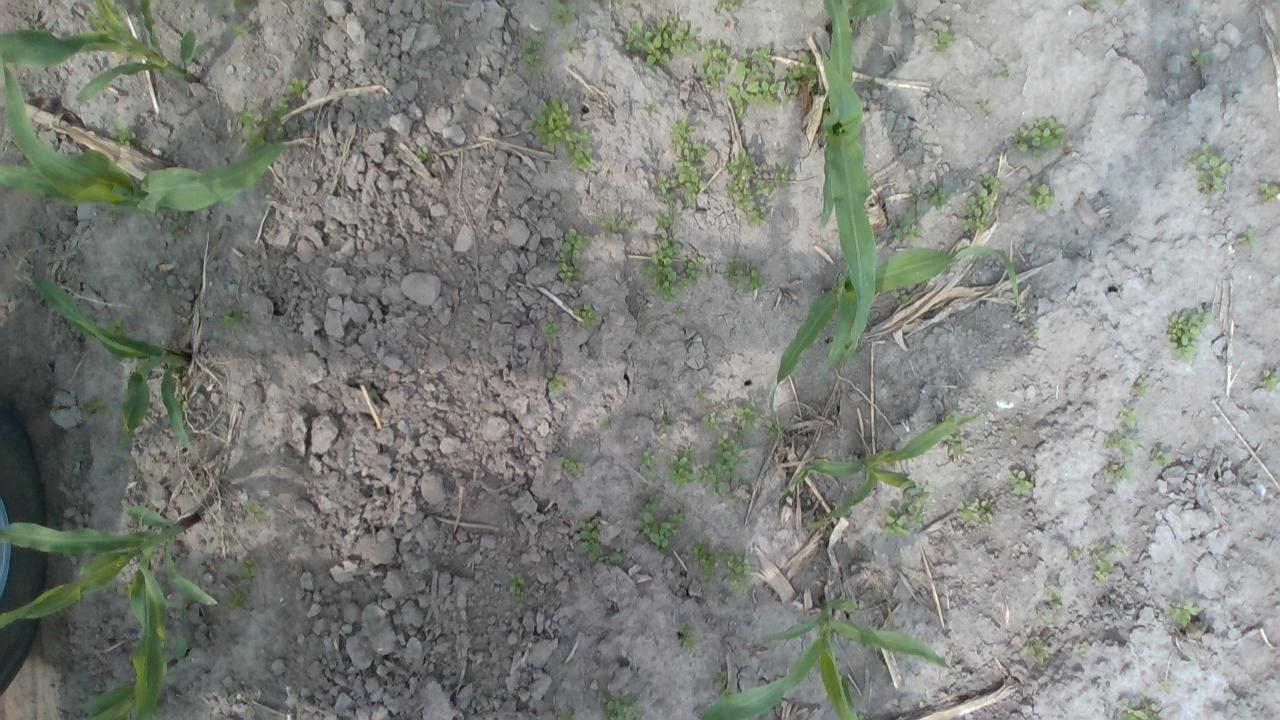Maize: (0, 504, 219, 720), (0, 62, 289, 218), (766, 246, 1020, 417), (696, 598, 954, 720), (29, 274, 199, 458), (780, 412, 981, 531), (816, 0, 879, 365), (0, 0, 203, 104), (78, 638, 192, 720), (822, 0, 892, 35)
Weeds: (639, 231, 705, 304), (624, 10, 700, 68), (724, 46, 780, 118), (698, 430, 751, 502), (668, 116, 711, 203), (723, 146, 769, 226), (233, 96, 296, 152), (629, 493, 687, 552), (882, 481, 929, 542), (524, 94, 572, 152), (1011, 116, 1067, 161), (1166, 308, 1212, 362), (1184, 143, 1232, 193), (961, 173, 1000, 233), (779, 50, 819, 107), (554, 227, 589, 286), (721, 255, 769, 294), (696, 39, 732, 90), (1088, 540, 1126, 584), (721, 546, 754, 594), (690, 538, 721, 584), (664, 446, 696, 488), (598, 691, 644, 720), (889, 207, 926, 243), (956, 494, 998, 524), (574, 518, 602, 563), (732, 398, 761, 436), (1038, 584, 1064, 626), (566, 131, 594, 170), (520, 33, 546, 72), (1104, 432, 1144, 457), (1116, 698, 1160, 720), (78, 390, 110, 420), (1024, 183, 1056, 212), (946, 429, 974, 461), (599, 210, 636, 233), (1170, 598, 1200, 626), (674, 622, 698, 656), (638, 448, 662, 482), (109, 117, 137, 146), (1021, 636, 1049, 664), (654, 173, 676, 208), (925, 182, 952, 209), (574, 302, 600, 330), (85, 0, 107, 32), (550, 0, 578, 24), (1006, 469, 1034, 493), (769, 162, 790, 194), (933, 22, 956, 51), (1102, 462, 1137, 481), (222, 588, 250, 610), (508, 574, 530, 602), (545, 368, 568, 394), (215, 308, 242, 330), (712, 670, 734, 697), (105, 314, 129, 338), (558, 455, 586, 474), (1116, 406, 1138, 430), (242, 500, 266, 522), (166, 215, 188, 238), (1236, 228, 1258, 250), (1257, 180, 1280, 201), (764, 416, 785, 439), (284, 77, 308, 97), (542, 314, 562, 338), (1261, 368, 1280, 392), (100, 206, 124, 224), (1132, 376, 1152, 397), (116, 575, 134, 598), (1151, 449, 1172, 468), (602, 547, 624, 565), (163, 702, 189, 717), (1190, 47, 1210, 66), (908, 182, 922, 209), (702, 411, 720, 432), (239, 558, 258, 577), (228, 0, 252, 14), (653, 209, 672, 226), (712, 0, 741, 11), (110, 0, 126, 19), (174, 600, 190, 619), (230, 23, 250, 37), (858, 545, 874, 562), (892, 289, 909, 304), (944, 408, 962, 422), (1080, 0, 1102, 11), (1110, 0, 1130, 11), (558, 708, 576, 720), (692, 386, 706, 400), (416, 146, 428, 162), (642, 100, 658, 112), (864, 77, 878, 90), (566, 40, 580, 52), (1068, 546, 1082, 558), (998, 67, 1008, 81), (616, 0, 635, 7), (662, 415, 672, 426), (179, 400, 189, 410), (675, 304, 686, 313), (142, 142, 154, 150), (1078, 643, 1088, 652), (1032, 327, 1040, 337)
